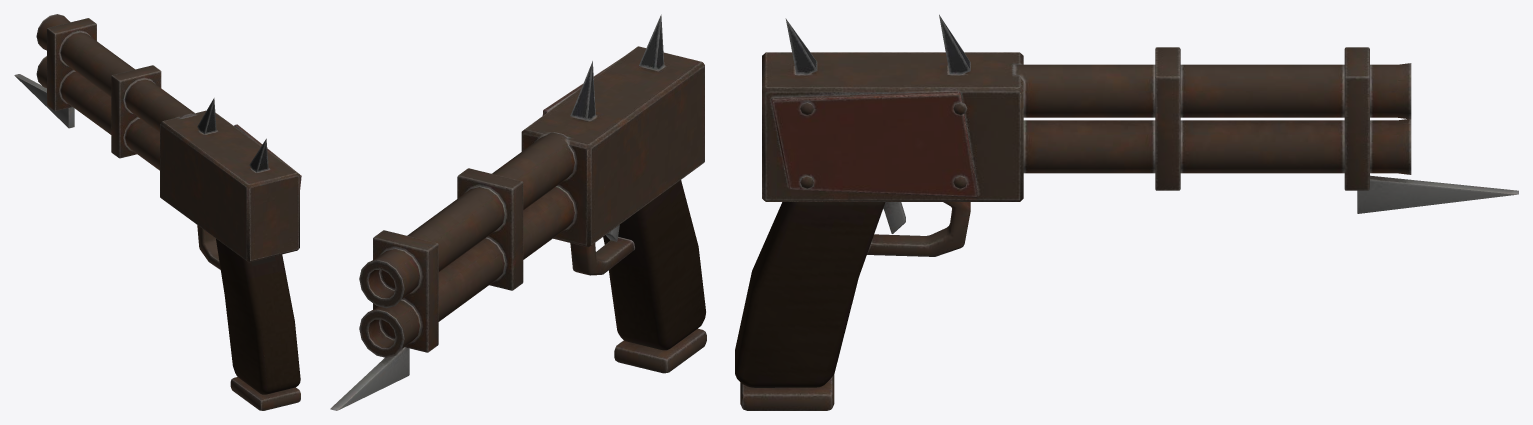
File: tusker_crude_pistol.glb
The picture shows the model from 3 angles, left to right: view 1: azimuth 30°, elevation 25°; view 2: azimuth 150°, elevation 25°; view 3: azimuth 270°, elevation 25°; orthographic projection. The views are drawn at different scales.
Parts seen in each view (by area): view 1: tusker_crude_pistol; view 2: tusker_crude_pistol; view 3: tusker_crude_pistol.
Boxes of the visible parts, <box> form: tusker_crude_pistol: <box>14,14,301,410</box>; tusker_crude_pistol: <box>330,14,706,410</box>; tusker_crude_pistol: <box>735,14,1518,410</box>.
Size of the model in its own units: 0.0562 by 0.2353 by 0.4347.
1 material, 1 textured.
